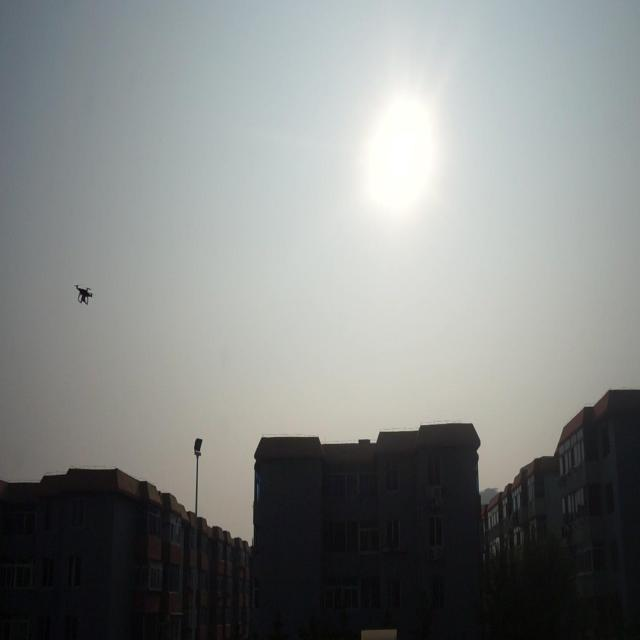UAV: (75, 285, 93, 305)
